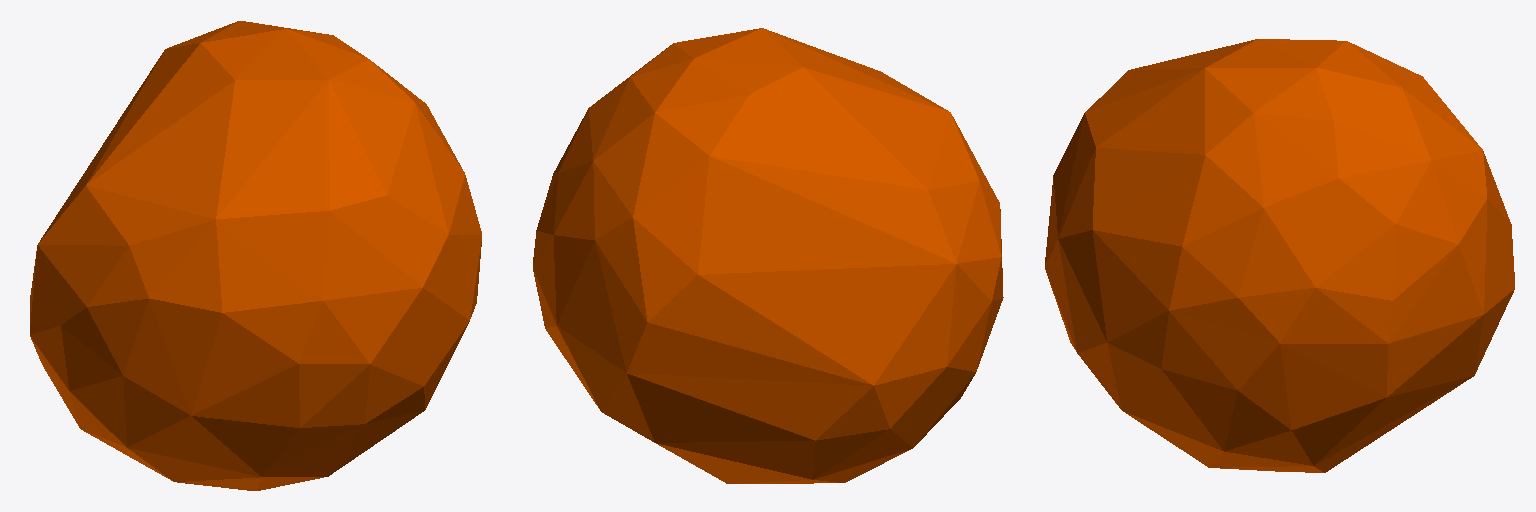
URDF robot description (SpidermanRHandSphere):
<?xml version="1.0"?>
<robot name="SpidermanRHandSphere">

  <link name="base_link"/>
  <joint name="base_link_J" type="fixed">
      <parent link="base_link"/>
      <child link="Pelvis"/>
      <origin rpy="0 0 0" xyz="0 0 0"/>
   </joint>

   <link name="Pelvis"/>
   <link name="Thorax_rx"/>
   <link name="Thorax_ry"/>
   <link name="Thorax"/>

  <joint name="thorax_rhand_rom_joint" type="fixed">
      <parent link="Thorax"/>
      <child link="thorax_rhand_rom"/>
      <origin rpy="0 0 0" xyz="0 0 0"/>
   </joint>

  <link name="thorax_rhand_rom">
      <visual>
         <origin xyz="0 0 0" rpy="0 0 0"/>
         <geometry>
            <mesh filename="package://hpp-rbprm-corba/meshes/spiderman/rhand_rom.stl"/>
         </geometry>
      </visual>
	  <collision>
         <origin xyz="0 0 0" rpy="0 0 0"/>
         <geometry>
            <mesh filename="package://hpp-rbprm-corba/meshes/spiderman/rhand_rom.stl"/>
         </geometry>
      </collision>
   </link>


   <link name="Skull_rx"/>
   <link name="Skull_ry"/>
   <link name="Skull"/>

  <joint name="A_Thorax_rx" type="revolute"> <!-- A_ added for order while parsing with ROS -->
      <parent link="Pelvis"/>
      <child link="Thorax_rx"/>
      <origin rpy="0 0 0" xyz="0.0373 0.0006 0.0788"/>
      <axis xyz="1 0 0"/>
      <limit effort="0" lower="-1" upper="1" velocity="1.0"/>
   </joint>
   <joint name="Thorax_ry" type="revolute">
      <parent link="Thorax_rx"/>
      <child link="Thorax_ry"/>
      <origin rpy="0 0 0" xyz="0 0 0"/>
      <axis xyz="0 1 0"/>
      <limit effort="0" lower="-0.8" upper="0.8" velocity="1.0"/>
   </joint>
   <joint name="Thorax_rz" type="revolute">
      <parent link="Thorax_ry"/>
      <child link="Thorax"/>
      <origin rpy="0 0 0" xyz="0 0 0"/>
      <axis xyz="0 0 1"/>
      <limit effort="0" lower="-1.5" upper="1.5" velocity="1.0"/>
   </joint>
   <joint name="A_Skull_rx" type="revolute"> <!-- A_ added for order while parsing with ROS -->
      <parent link="Thorax"/>
      <child link="Skull_rx"/>
      <origin rpy="0 0 0" xyz="0.0711 -0.0005 0.6039"/>
      <axis xyz="1 0 0"/>
      <limit effort="0" lower="-0.3" upper="0.3" velocity="1.0"/>
   </joint>
   <joint name="Skull_ry" type="revolute">
      <parent link="Skull_rx"/>
      <child link="Skull_ry"/>
      <origin rpy="0 0 0" xyz="0 0 0"/>
      <axis xyz="0 1 0"/>
      <limit effort="0" lower="-1.1" upper="0.6" velocity="1.0"/>
   </joint>
   <joint name="Skull_rz" type="revolute">
      <parent link="Skull_ry"/>
      <child link="Skull"/>
      <origin rpy="0 0 0" xyz="0 0 0"/>
      <axis xyz="0 0 1"/>
      <limit effort="0" lower="-1.4" upper="1." velocity="1.0"/>
   </joint>
</robot>

--- Render facts (derived) ---
3 views of the same robot in one strip: view 1: azimuth 30°, elevation 25°; view 2: azimuth 150°, elevation 25°; view 3: azimuth 270°, elevation 25° (orthographic).
Robot: SpidermanRHandSphere — 9 links, 8 joints (6 revolute, 2 fixed); root link base_link; default pose: all joints at 0.
Visible links, largest first — view 1: thorax_rhand_rom; view 2: thorax_rhand_rom; view 3: thorax_rhand_rom.
Boxes of the visible links, x1,y1,x2,y2 form: thorax_rhand_rom: (30,21,481,490); thorax_rhand_rom: (533,28,1003,483); thorax_rhand_rom: (1045,39,1514,472).
Bounding box of the posed robot: 1.22 × 1.21 × 1.17 m (x, y, z).
Meshes: 1 distinct files referenced, 1 mesh visuals loaded (1 binary STL).
